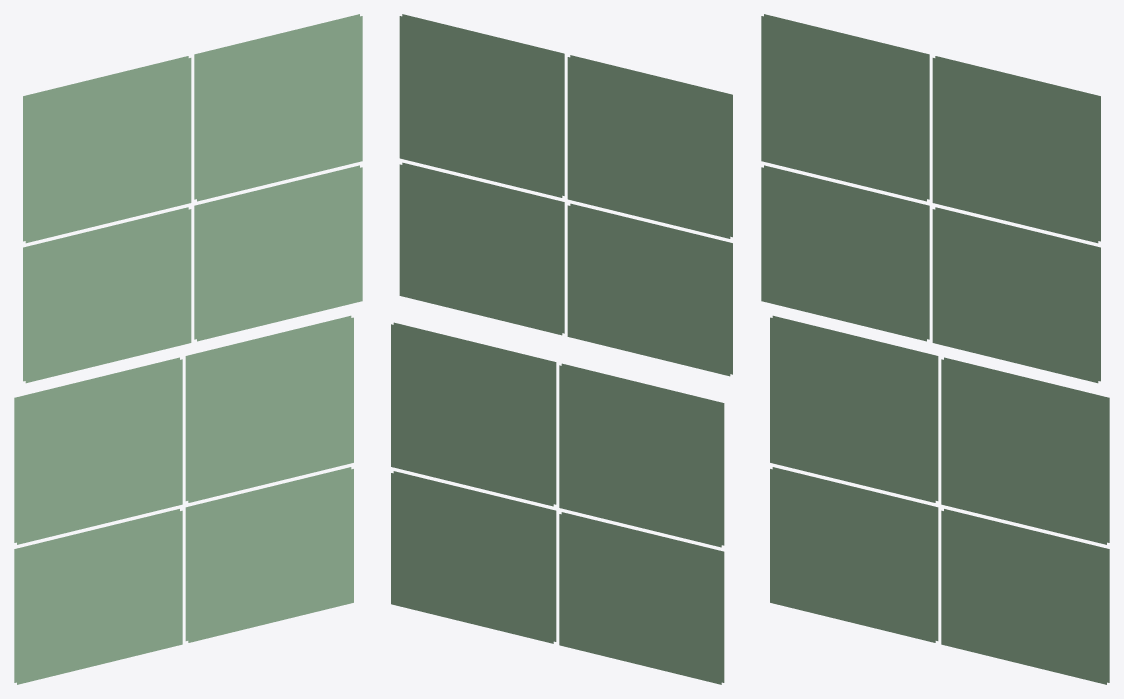
Rendered from SM_House_WindowGlass_A.fbx.
3 views of the same model, side by side, from view 1: azimuth 30°, elevation 25°; view 2: azimuth 150°, elevation 25°; view 3: azimuth 330°, elevation 25° (orthographic).
Parts seen in each view (by area): view 1: SM_House_WindowGlass_A; view 2: SM_House_WindowGlass_A; view 3: SM_House_WindowGlass_A.
Boxes of the visible parts, x1,y1,x2,y2 form: SM_House_WindowGlass_A: [14, 14, 362, 684]; SM_House_WindowGlass_A: [391, 14, 732, 684]; SM_House_WindowGlass_A: [761, 14, 1109, 684].
Size of the model in its own units: 76.2 by 4.4 by 128.
